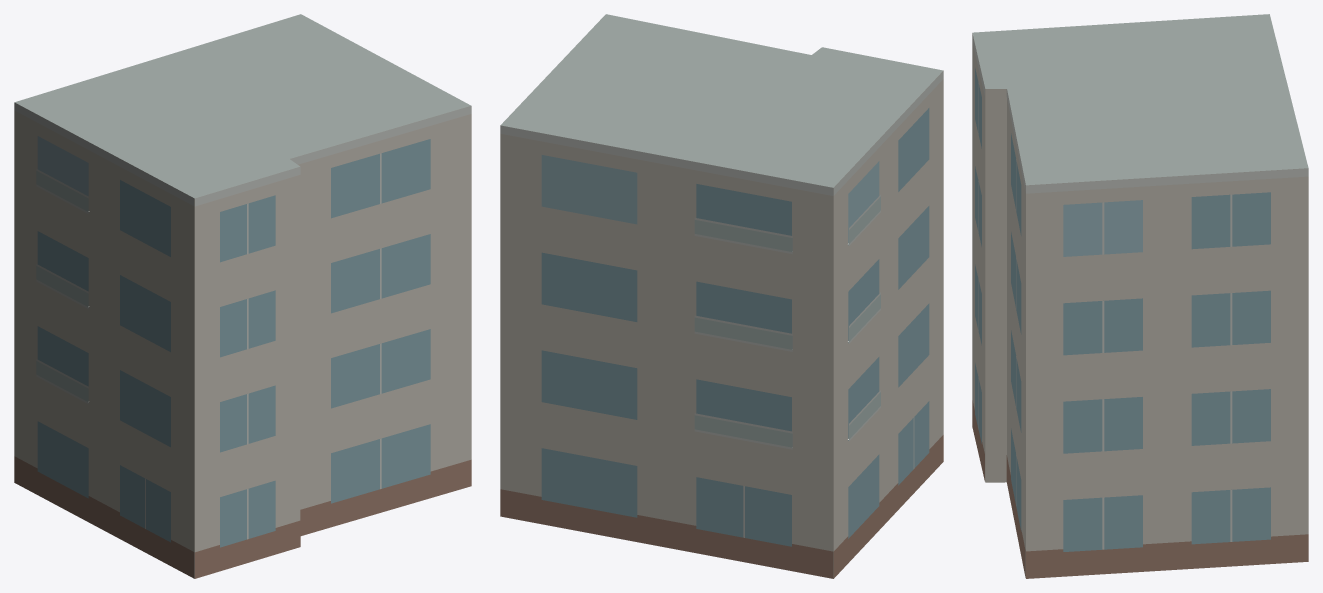
File: survey-upis-32902145.glb
3 views of the same model, side by side, from view 1: azimuth 30°, elevation 25°; view 2: azimuth 150°, elevation 25°; view 3: azimuth 270°, elevation 25° (orthographic). The views are drawn at different scales.
Visible parts, largest first — view 1: survey-upis-32902145.tmp; view 2: survey-upis-32902145.tmp; view 3: survey-upis-32902145.tmp.
Boxes of the visible parts, <box> form: survey-upis-32902145.tmp: <box>14,14,471,578</box>; survey-upis-32902145.tmp: <box>500,14,943,578</box>; survey-upis-32902145.tmp: <box>972,14,1308,578</box>.
Bounding box in the file's own units: 10.7 × 11.45 × 8.88.
